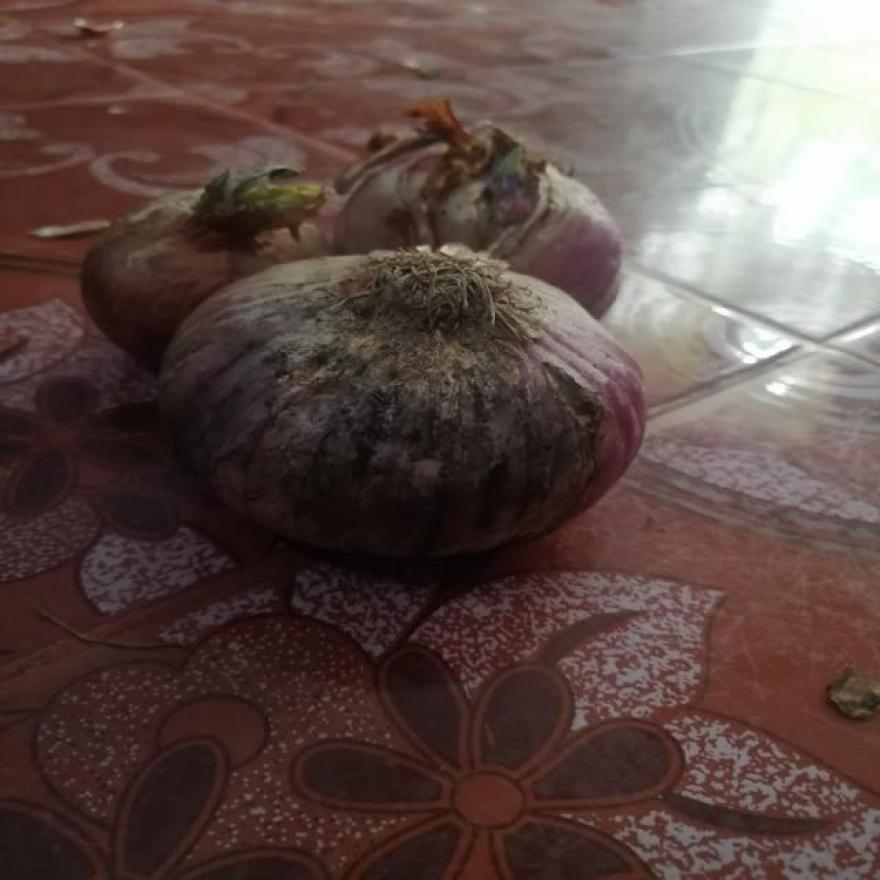Rotten: (208, 350, 591, 514), (396, 138, 532, 246)
Sprouted: (196, 179, 317, 233)
